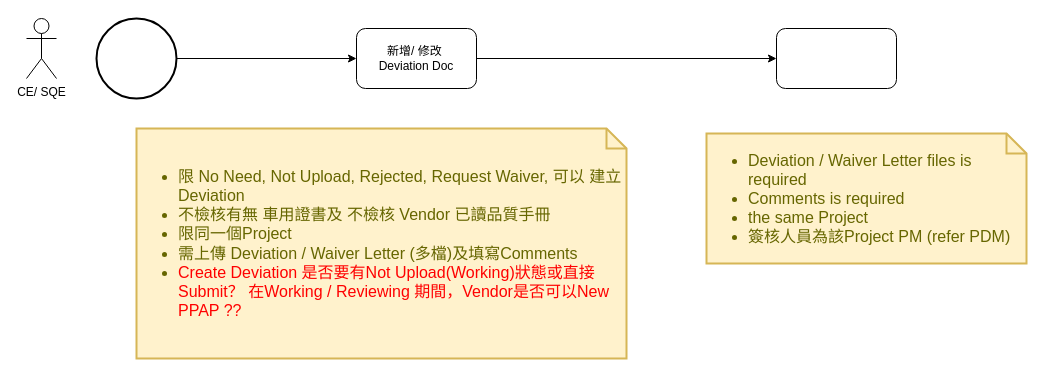
This 1045x376 diagram has some shape labels left out. The centre of each missing label's shape, as x and y in pixels:
"Browse Part" belongs at (136,58).
"Submit" belongs at (836,58).
